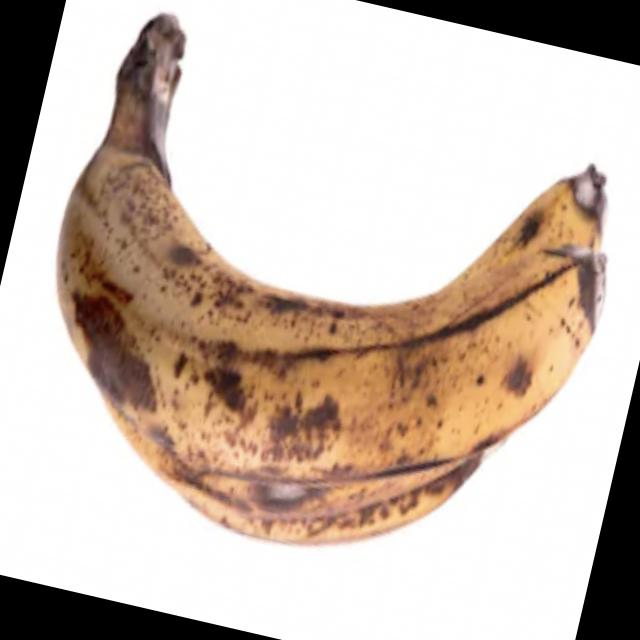rotten-banana: (0, 41, 633, 596)
